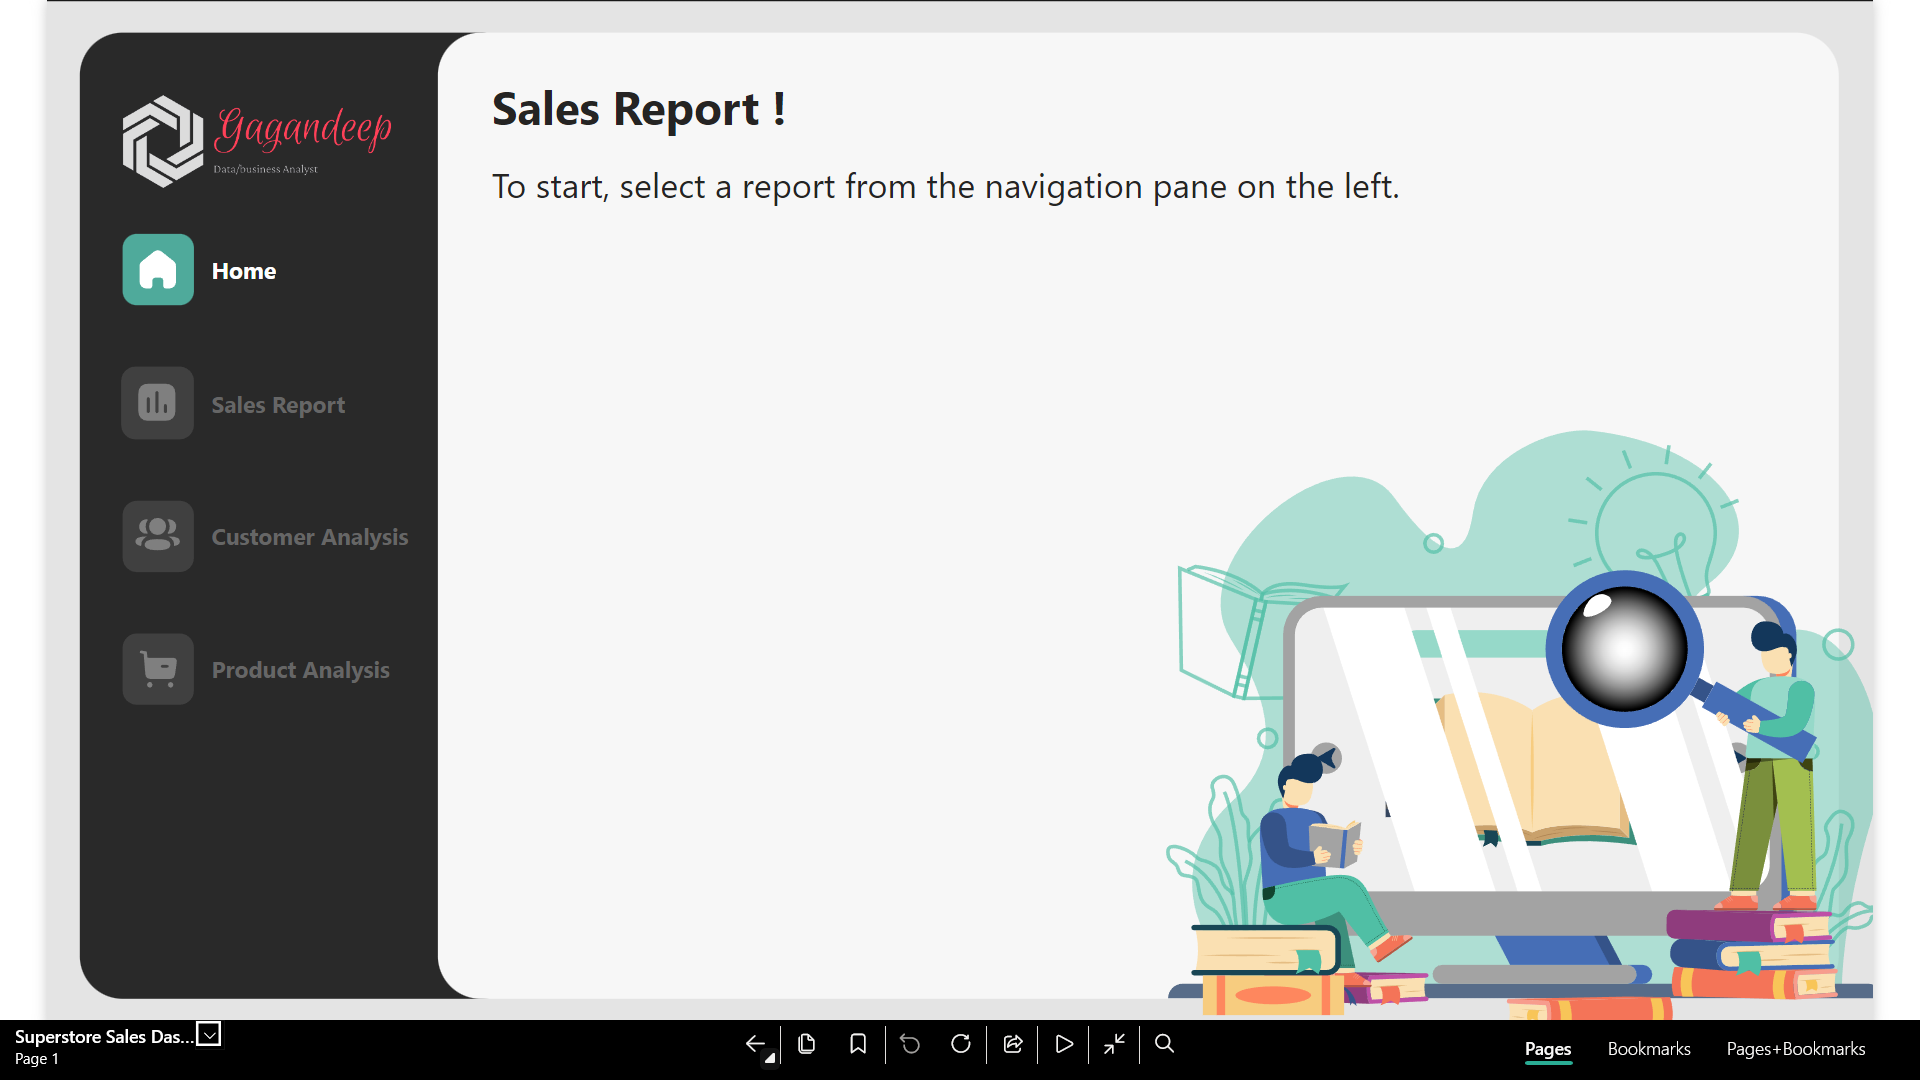

The page's visual inventory and layout, read from the dashboard file:
{"tool":"powerbi","page":{"name":"Page 1","canvas":[1280,720],"ordinal":0},"visuals":[{"type":"actionButton","box":[111.5,168,99.9,40.5],"z":0},{"type":"actionButton","box":[111.5,262.1,149.1,40.5],"z":1000},{"type":"actionButton","box":[111.5,354.8,149.1,40.5],"z":2000},{"type":"actionButton","box":[111.5,447.4,149.1,40.5],"z":3000},{"type":"textbox","box":[307,47.8,900.6,176.7],"z":4000},{"type":"image","box":[0,19.3,275,136.3],"z":5000}]}

Visuals, with their boxes on the page's 1280x720 design canvas (x1, y1, x2, y2). These are canvas units, not pixel positions in the 1920x1080 screenshot, which may show the page scaled, cropped or inside an application window:
actionButton: box=[112, 168, 211, 208]
actionButton: box=[112, 262, 261, 303]
actionButton: box=[112, 355, 261, 395]
actionButton: box=[112, 447, 261, 488]
textbox: box=[307, 48, 1208, 224]
image: box=[0, 19, 275, 156]
